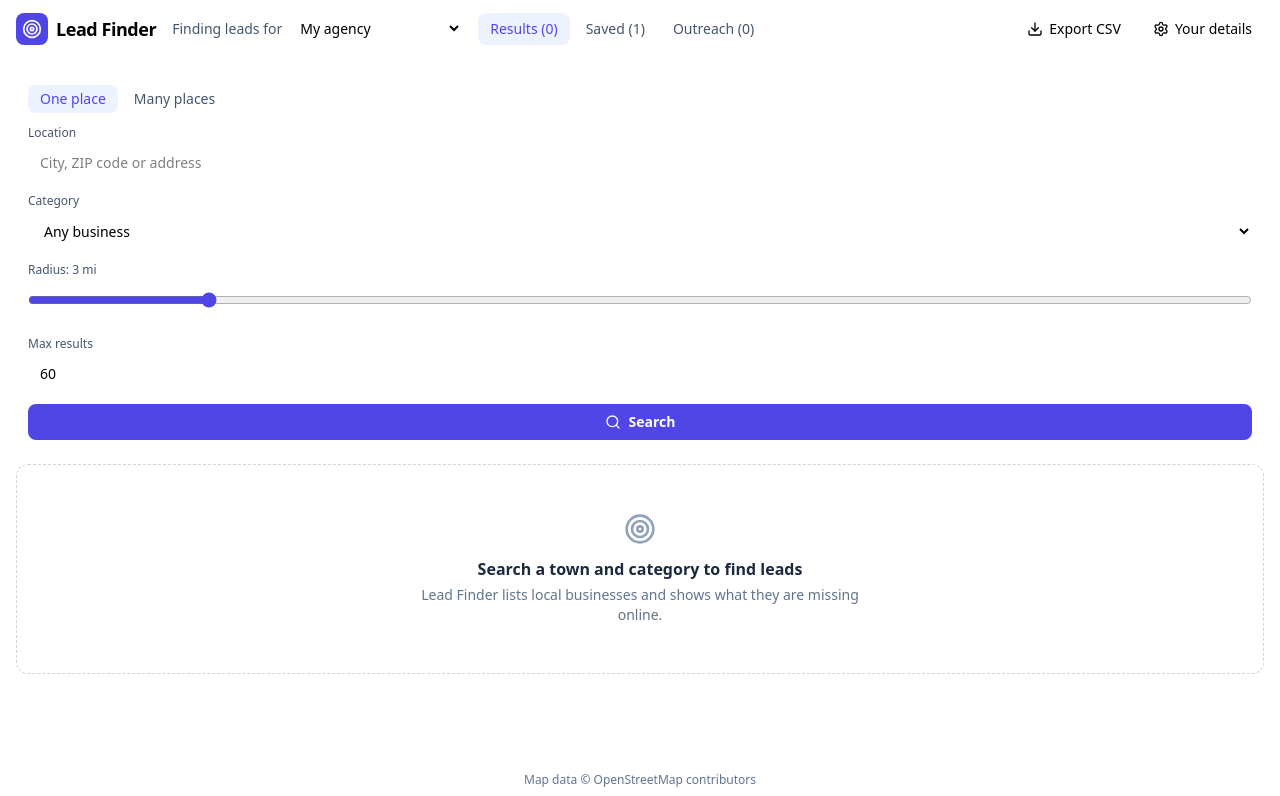
Test case: replies › lets you write the answer yourself when AI is off
Click the button "Outreach (0)". click: {"x": 714, "y": 28}
box: [661,12,766,44]
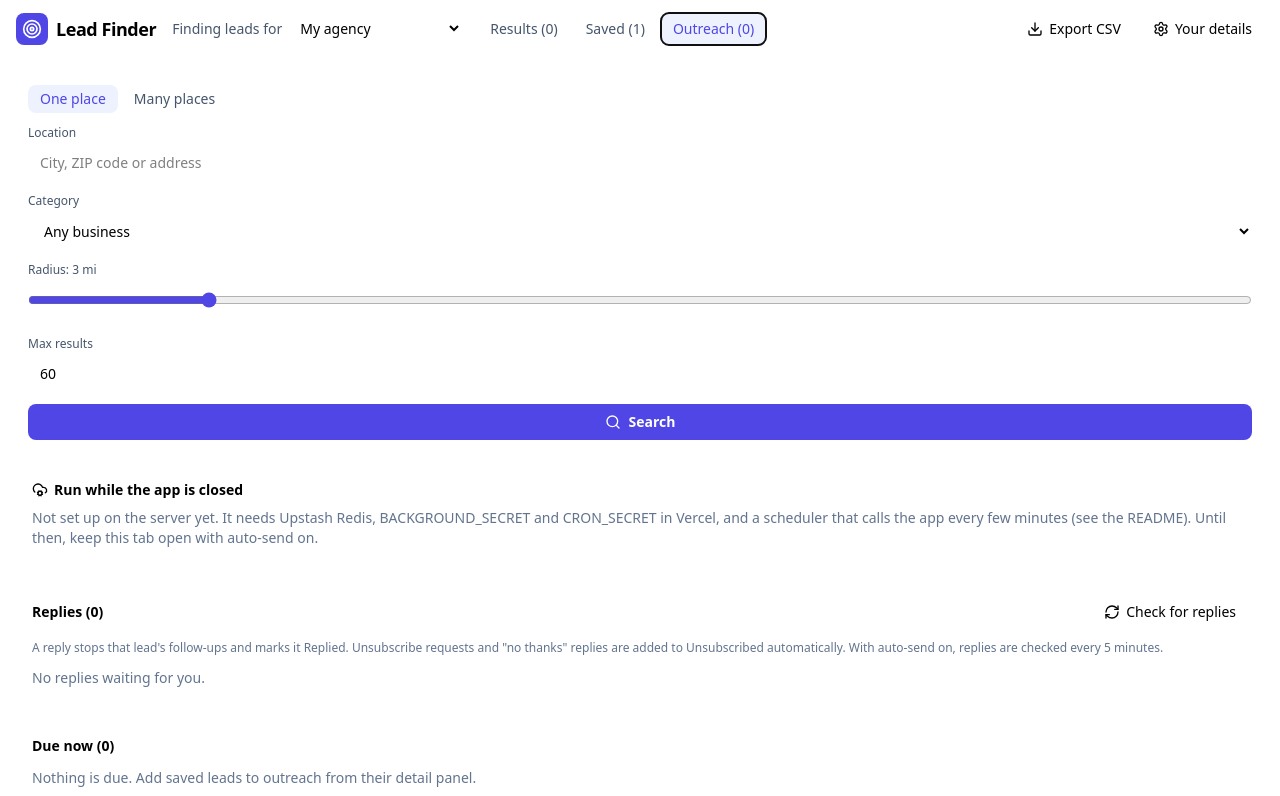
Click the button "Check for replies". click: {"x": 1170, "y": 612}
box: [1092,596,1248,628]
(page scrolled)
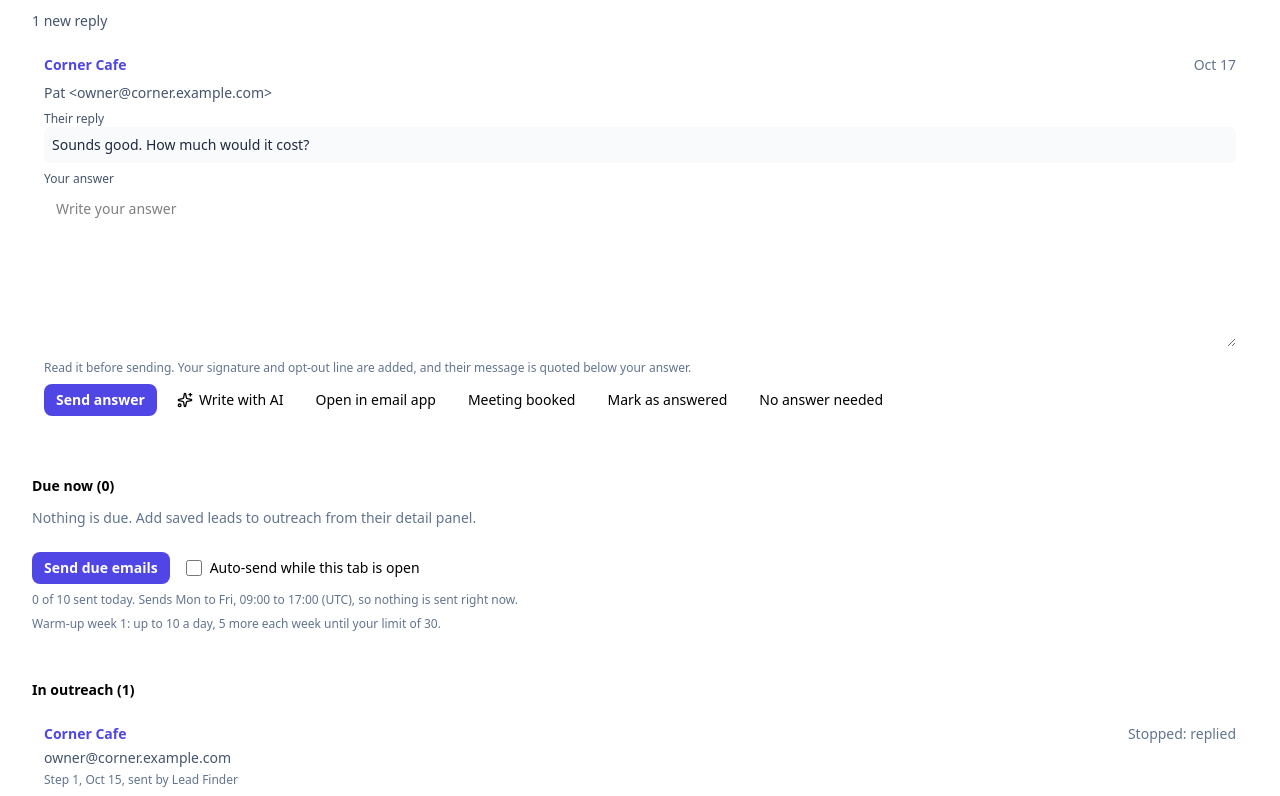
Check: the text "Sounds good. How much would it cost?" is shown, box [44,127,1236,163]
Click the button "Write with AI". click: {"x": 230, "y": 400}
box: [165,384,295,416]
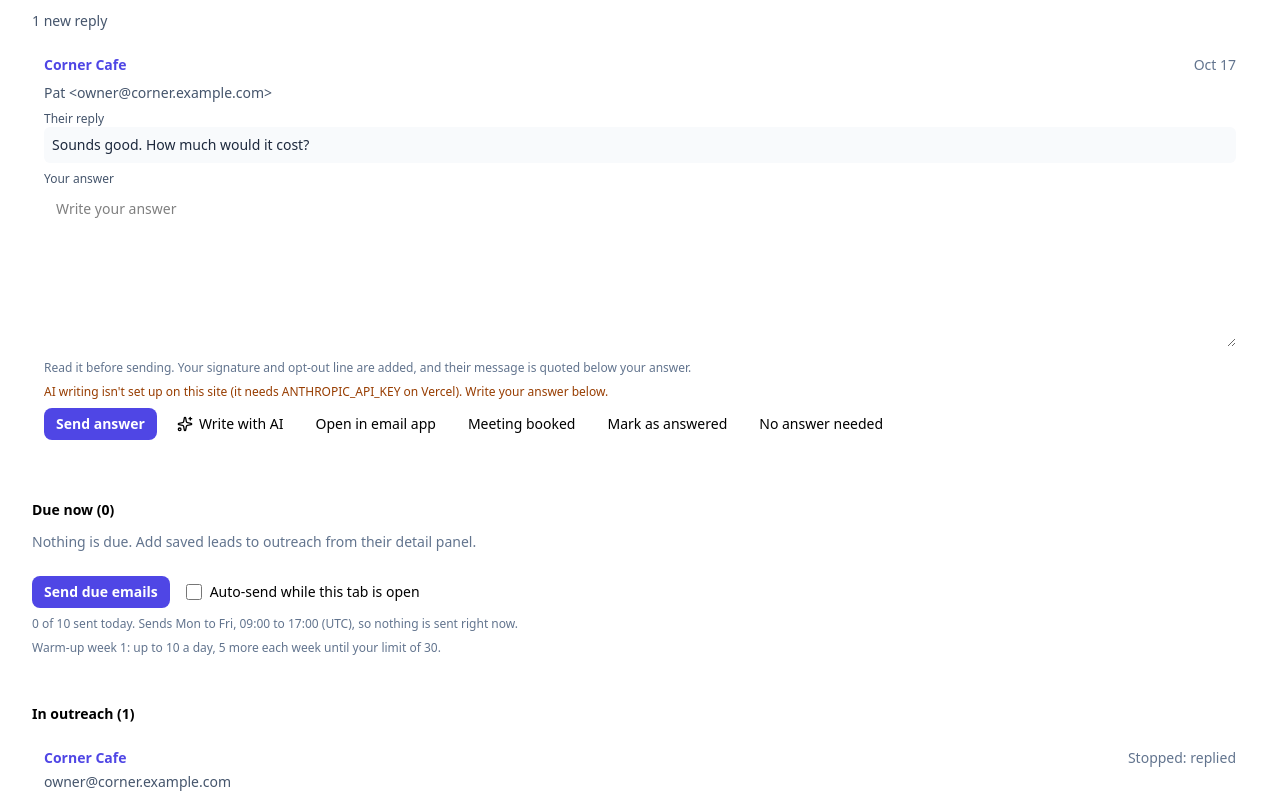
Check: the button "Send answer" is disabled, box [44,408,157,440]
Check: the text "AI writing isn't set up" is shown, box [44,383,608,400]
Type "Hi Pat, about $1,500." into the text box with placeholder "Write your answer". click: {"x": 640, "y": 269}
box: [44,191,1236,347]
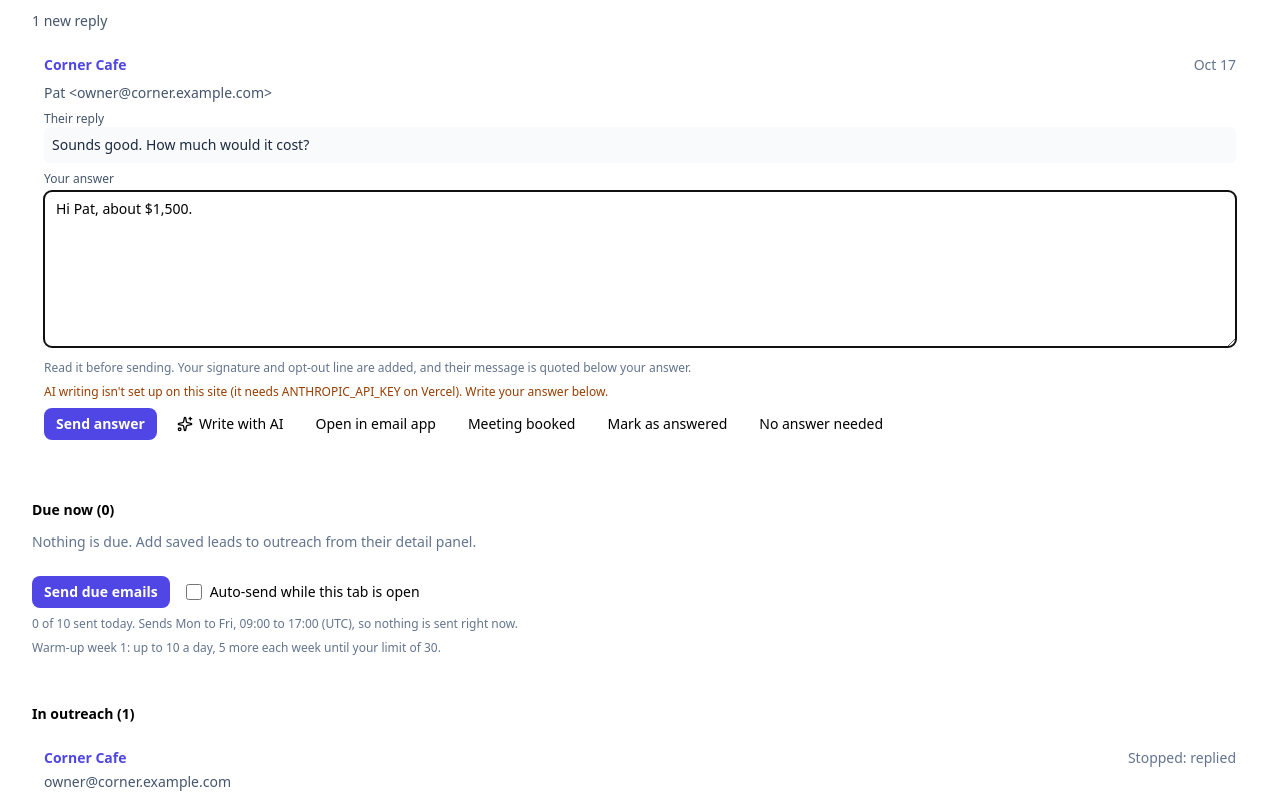
Check: the button "Send answer" is enabled, box [44,408,157,440]
Click the button "No answer needed". click: {"x": 821, "y": 424}
box: [747,408,895,440]
(page scrolled)
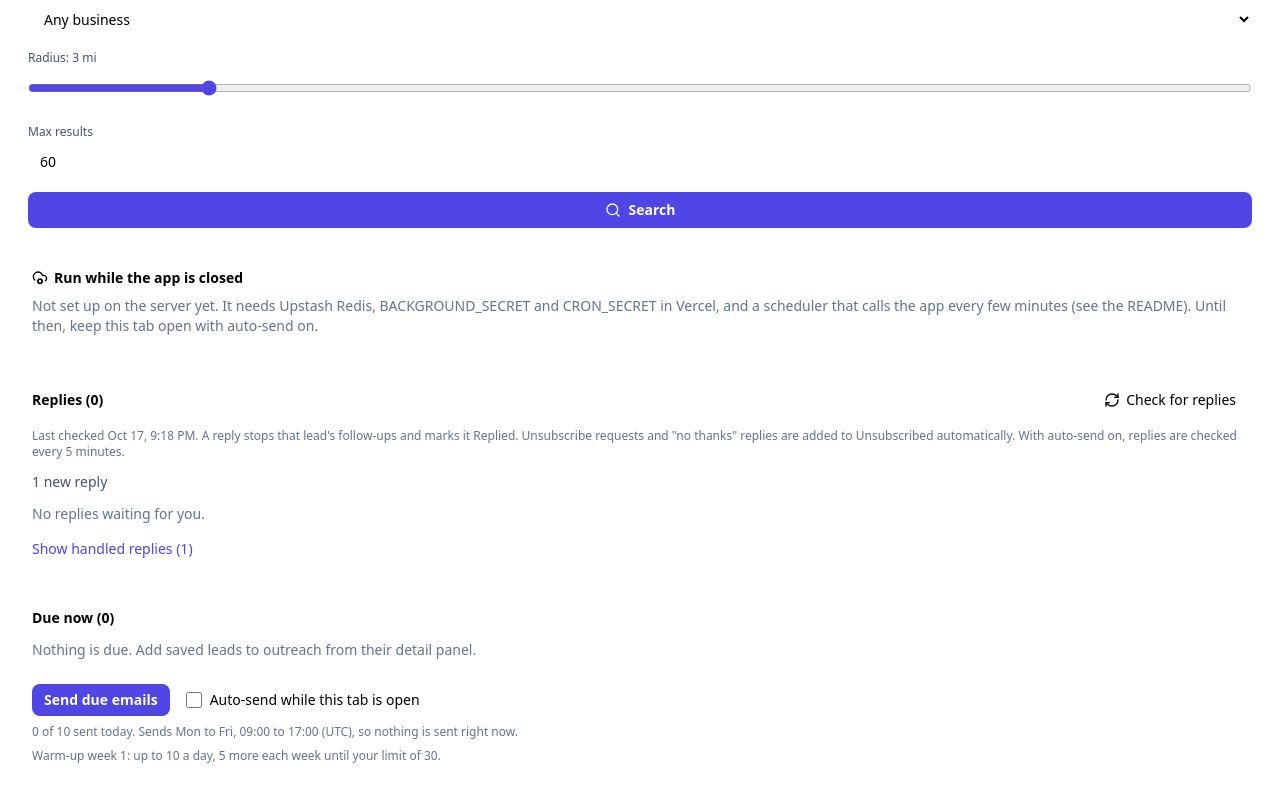
Check: the heading "Replies (0)" is shown, box [32,390,103,410]
